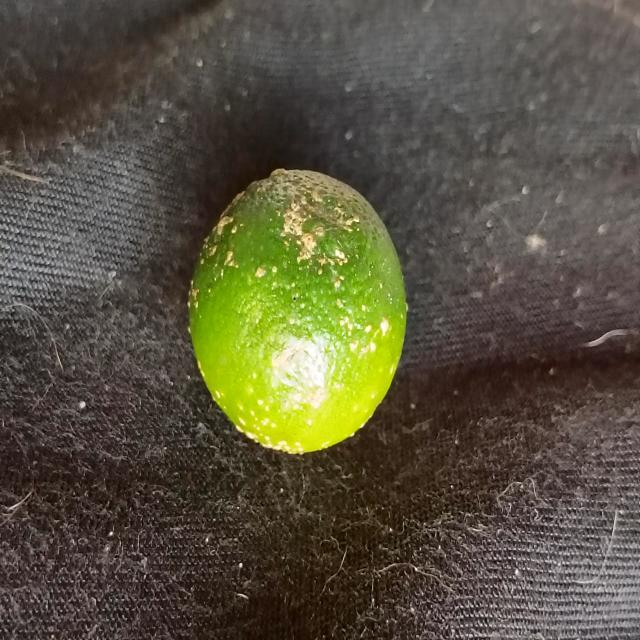scab: (181, 172, 413, 445)
